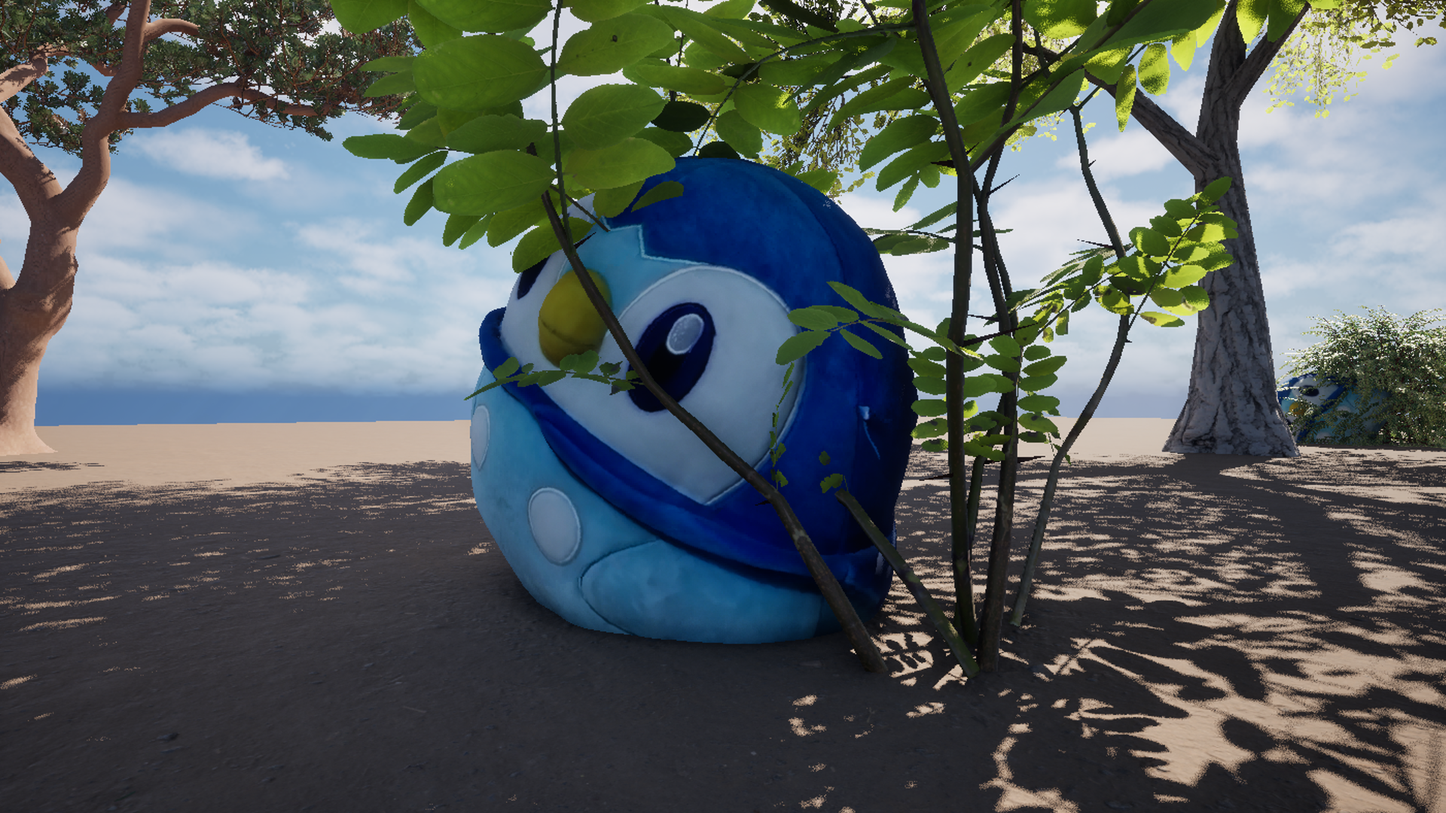Piplup: (392, 0, 1158, 813)
